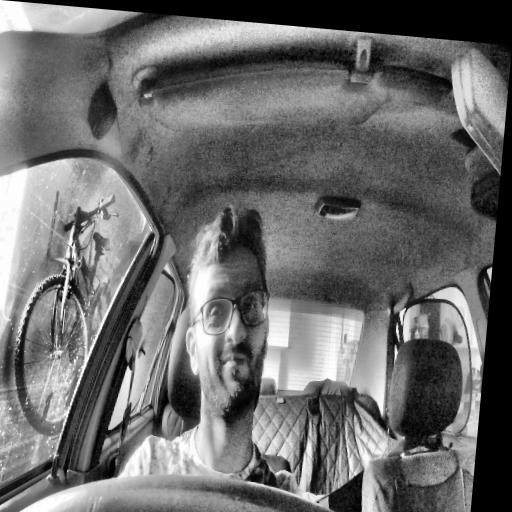awake: (176, 202, 282, 430)
